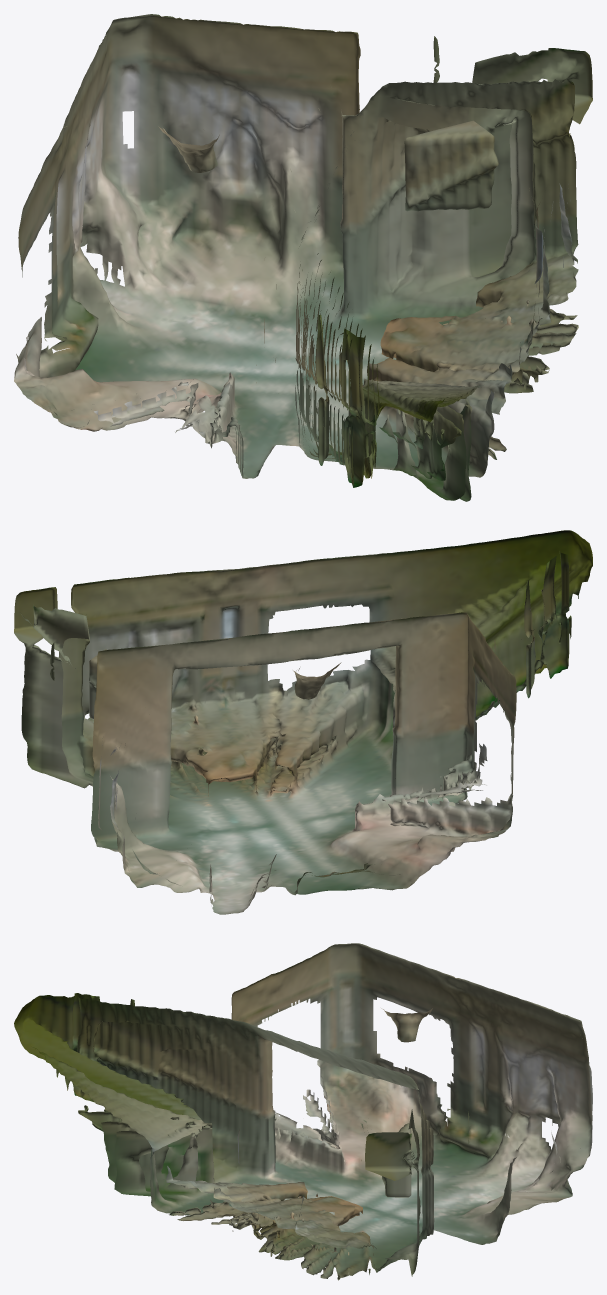
Rendered from bedroom-collider.glb.
3 renders of one model, top to bottom at view 1: azimuth 30°, elevation 25°; view 2: azimuth 150°, elevation 25°; view 3: azimuth 270°, elevation 25°, orthographic. The views are drawn at different scales.
Visible parts, largest first — view 1: world; view 2: world; view 3: world.
Boxes of the visible parts, left/top/right/bottom form: world: left=14, top=14, right=592, bottom=501; world: left=14, top=530, right=592, bottom=914; world: left=14, top=943, right=592, bottom=1280.
Bounding box in the file's own units: 12.46 × 5.07 × 15.13.
